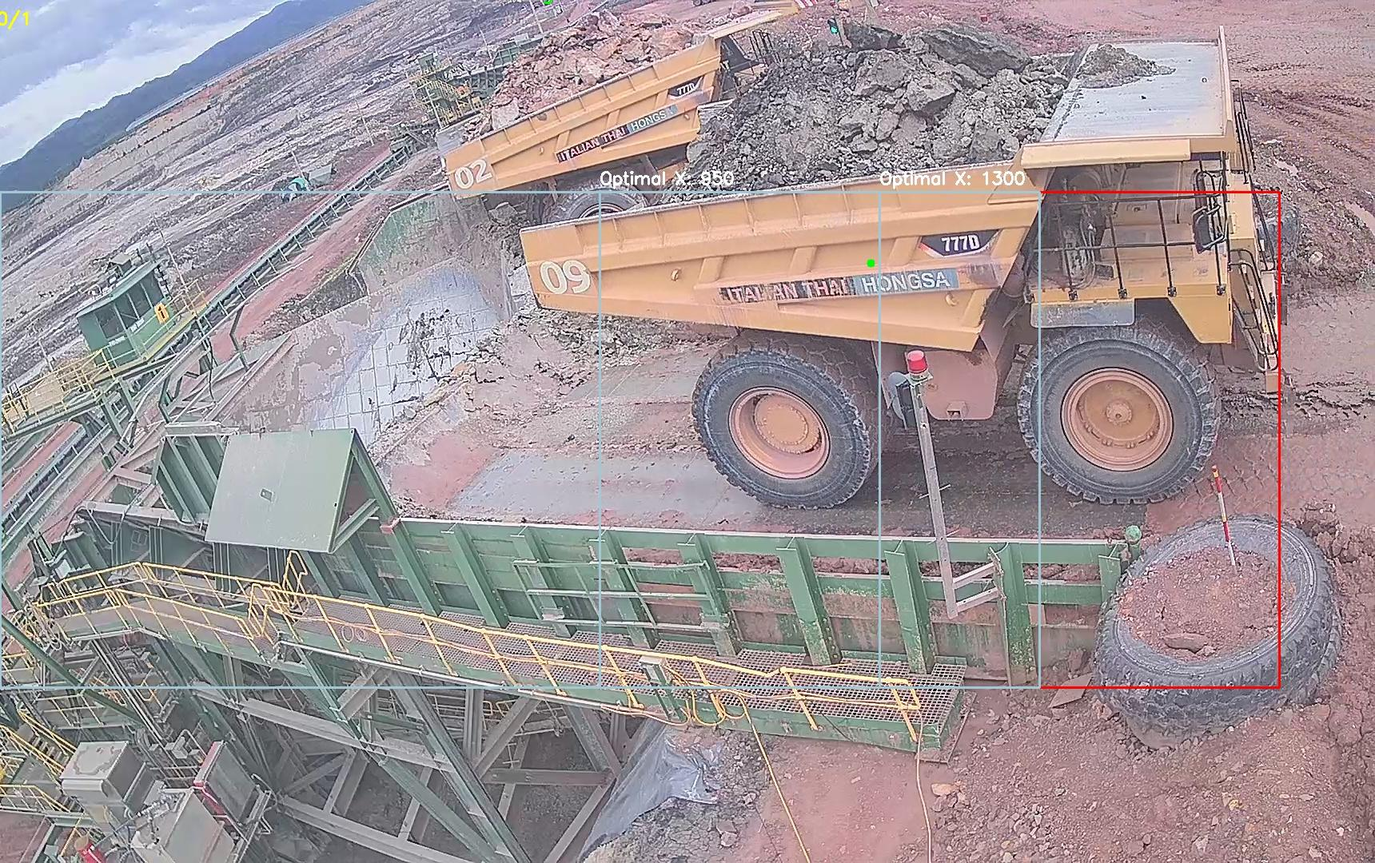company: (716, 257, 970, 309)
full_load: (700, 11, 1031, 192)
mining_truck: (517, 2, 1286, 510)
tail_number: (531, 253, 602, 307)
truck_size: (917, 224, 1012, 259)
